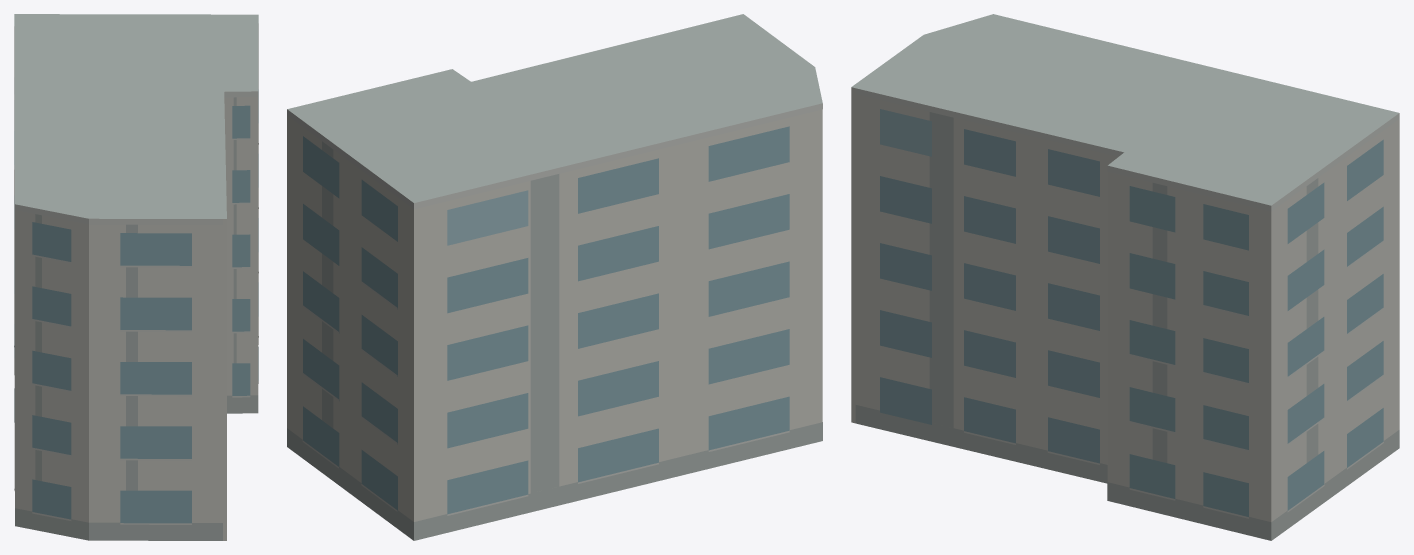
The model's file is survey-upis-32986094.glb.
3 renders of one model, left to right at view 1: azimuth 30°, elevation 25°; view 2: azimuth 150°, elevation 25°; view 3: azimuth 270°, elevation 25°, orthographic. The views are drawn at different scales.
Parts seen in each view (by area): view 1: survey-upis-32986094.tmp; view 2: survey-upis-32986094.tmp; view 3: survey-upis-32986094.tmp.
Part boxes in pixels (box(x1,y1,x2,y2)): survey-upis-32986094.tmp: box(14, 14, 258, 540); survey-upis-32986094.tmp: box(287, 14, 822, 540); survey-upis-32986094.tmp: box(851, 14, 1399, 540).
Bounding box in the file's own units: 16.56 × 13.5 × 20.02.
